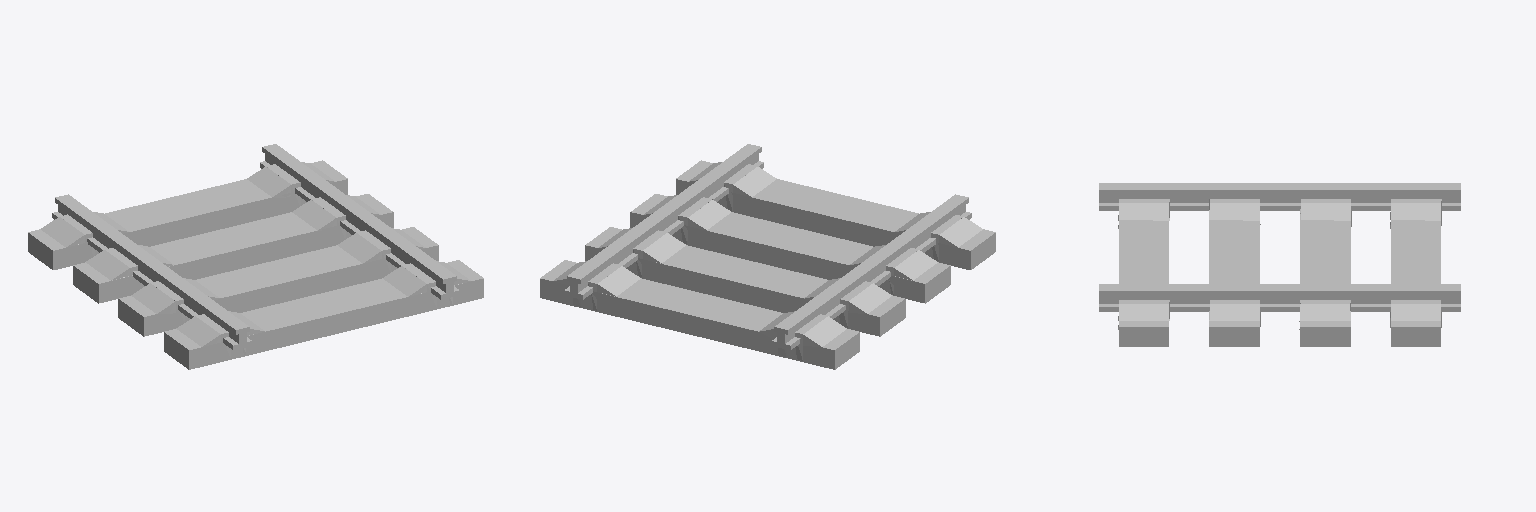
Rendered from concrete_track.obj.
The picture shows the model from 3 angles: view 1: azimuth 30°, elevation 25°; view 2: azimuth 150°, elevation 25°; view 3: azimuth 270°, elevation 25°; orthographic projection.
Parts seen in each view (by area): view 1: track_concrete.001, track_concrete; view 2: track_concrete.001, track_concrete; view 3: track_concrete.001, track_concrete.
Boxes of the visible parts, x1,y1,x2,y2 form: track_concrete.001: [28, 145, 483, 369]; track_concrete: [28, 144, 483, 369]; track_concrete.001: [540, 145, 995, 369]; track_concrete: [540, 144, 995, 369]; track_concrete.001: [1100, 199, 1460, 346]; track_concrete: [1099, 183, 1460, 346].
Size of the model in its own units: 0.94 by 0.1158 by 1.